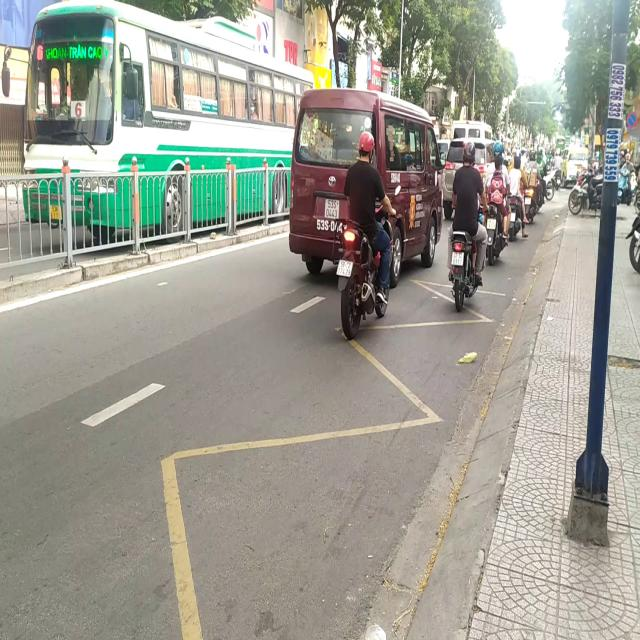bien_trang: (325, 199, 339, 219), (338, 260, 353, 276), (452, 251, 463, 266), (487, 218, 496, 230)
bien_vang: (49, 206, 62, 220)
